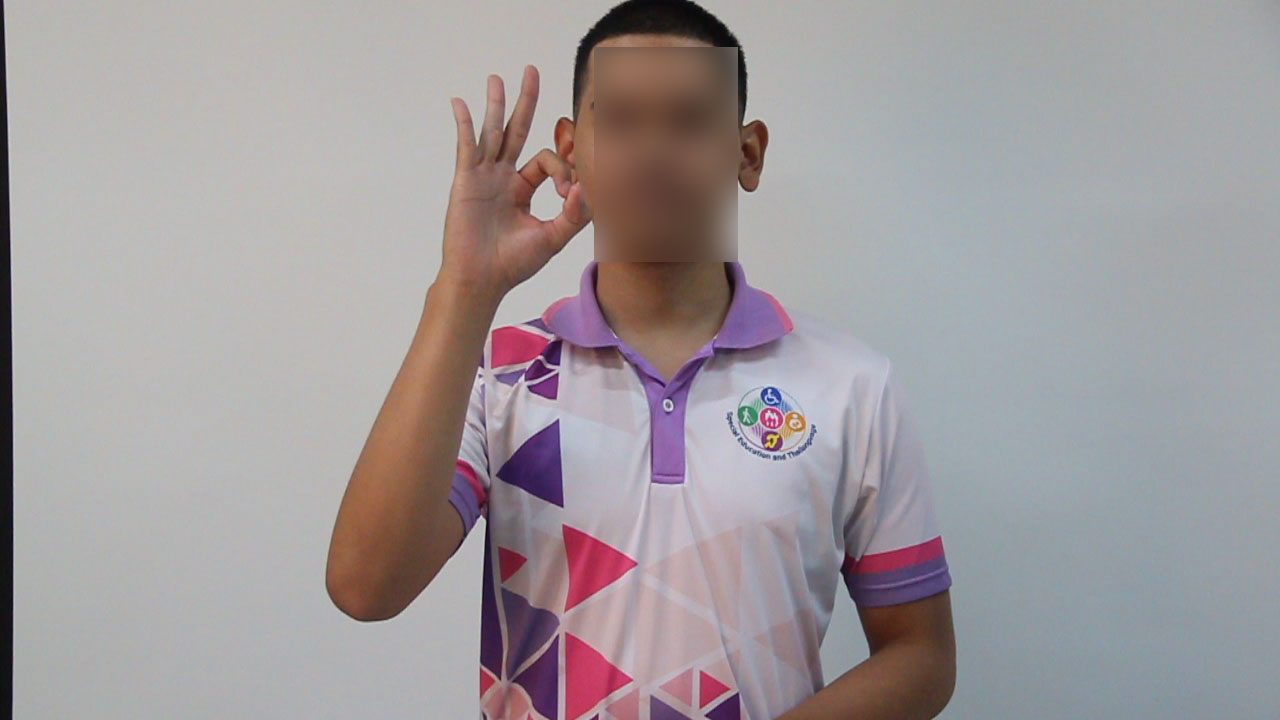for: (416, 47, 596, 311)
